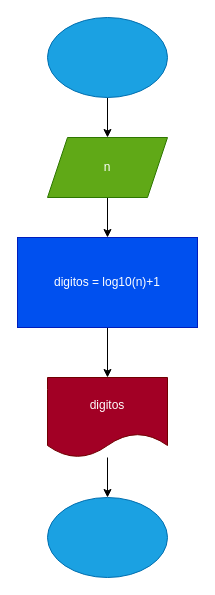
This 215x595 diagram has some shape labels left out. The shapes that lost their labels are listed below. From the top down, each one's box as (x1, y1, x2, y2) in pixels, then its label:
(46, 16, 168, 98): INICIO
(46, 496, 168, 578): FIN
